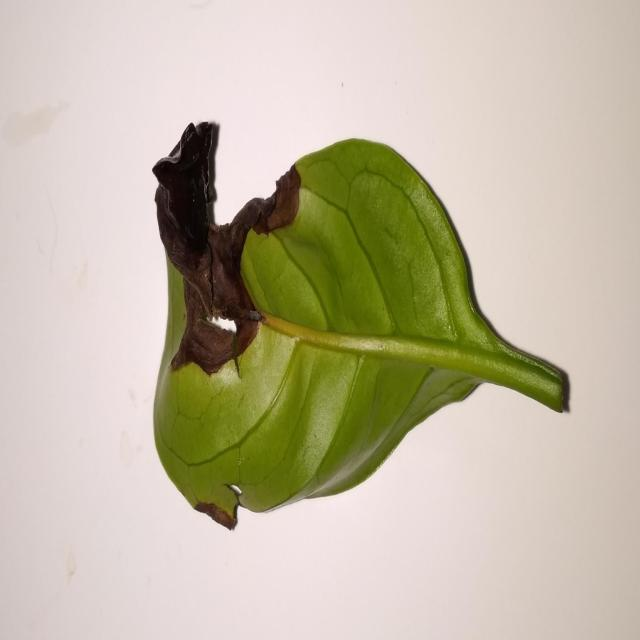Enfermedad-Antracnosis: (151, 122, 571, 532)
